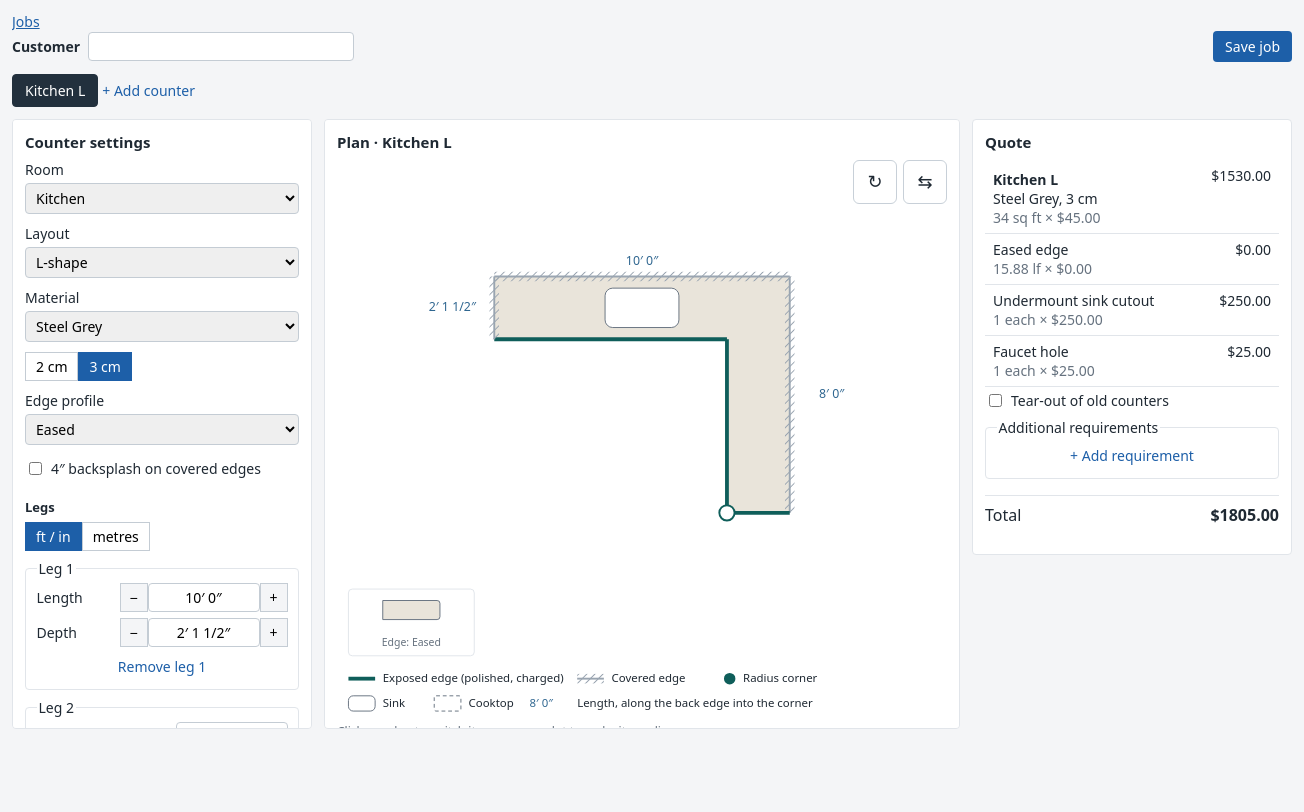
a new job › says why a save failed
This screenshot has width=1304, height=812.
Type "Ana" into the field labelled "Customer" at (221,46), box [88,32,354,61]
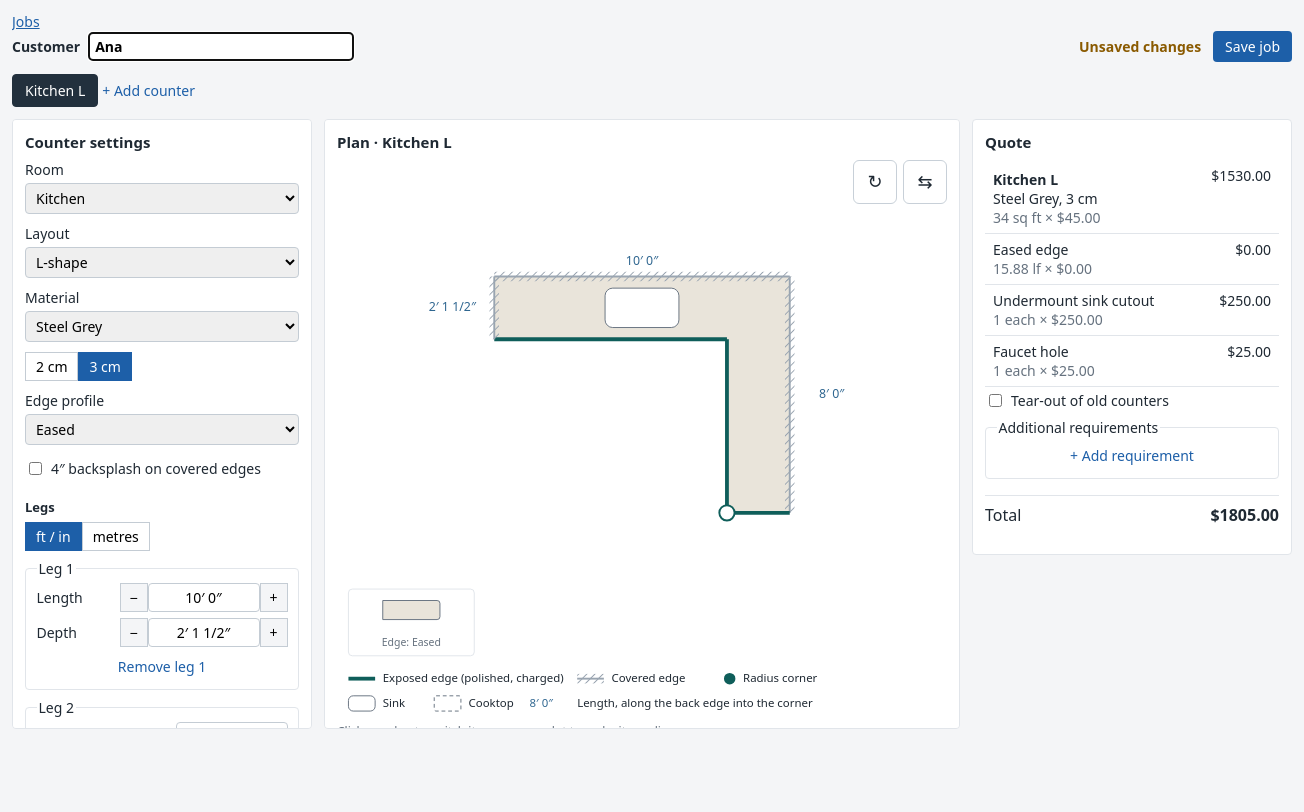
Click the button "Save job" at (1253,46), box [1213,31,1292,62]
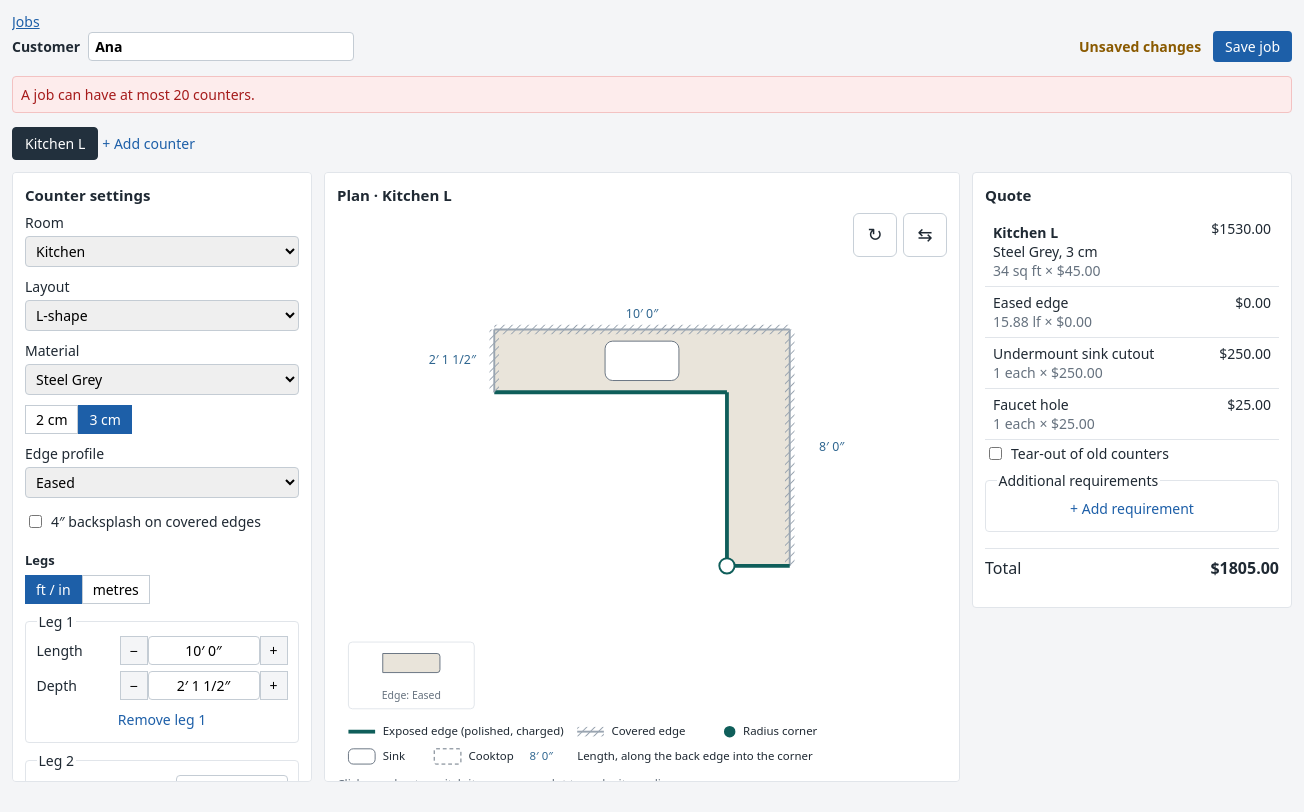
Check: the text "A job can have at most 20 counters." is shown, box [12,76,1292,113]
